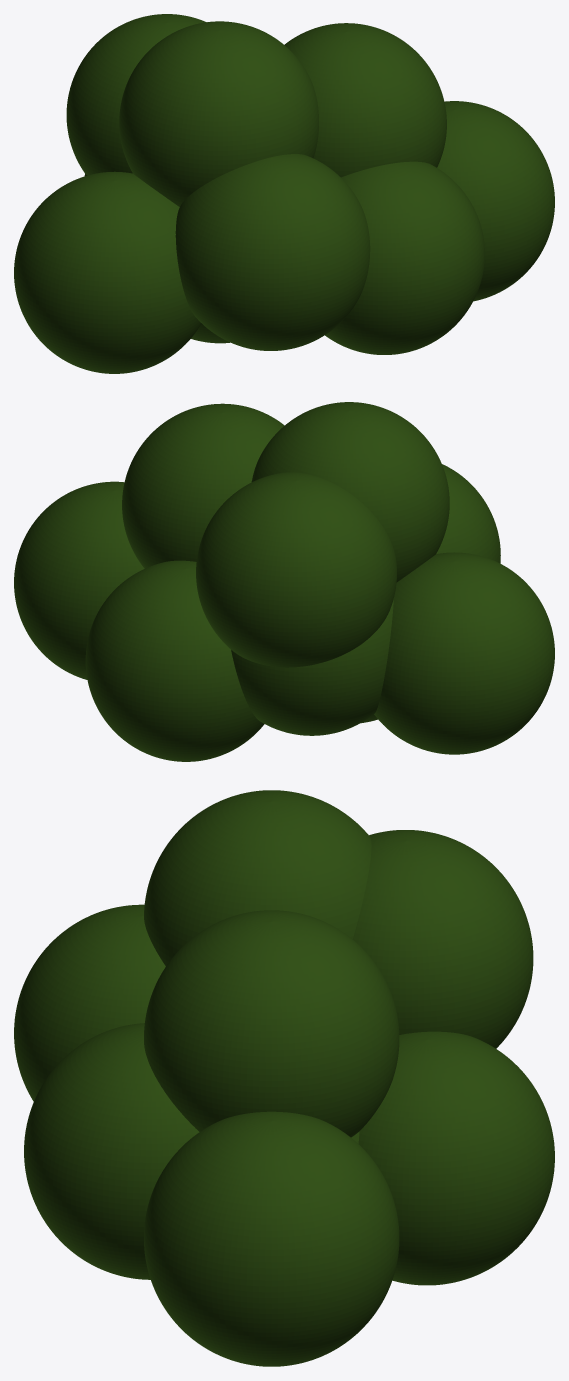
The model's file is BushToUse.fbx.
The picture shows the model from 3 angles, top to bottom: view 1: azimuth 30°, elevation 25°; view 2: azimuth 150°, elevation 25°; view 3: azimuth 270°, elevation 25°; orthographic projection. The views are drawn at different scales.
Visible parts, largest first — view 1: Sphere; view 2: Sphere; view 3: Sphere.
Part boxes in pixels (x1,y1,x2,y2): Sphere: (14,14,554,373); Sphere: (14,402,554,761); Sphere: (14,790,554,1366).
Size of the model in its own units: 2250 by 1347 by 1613.
